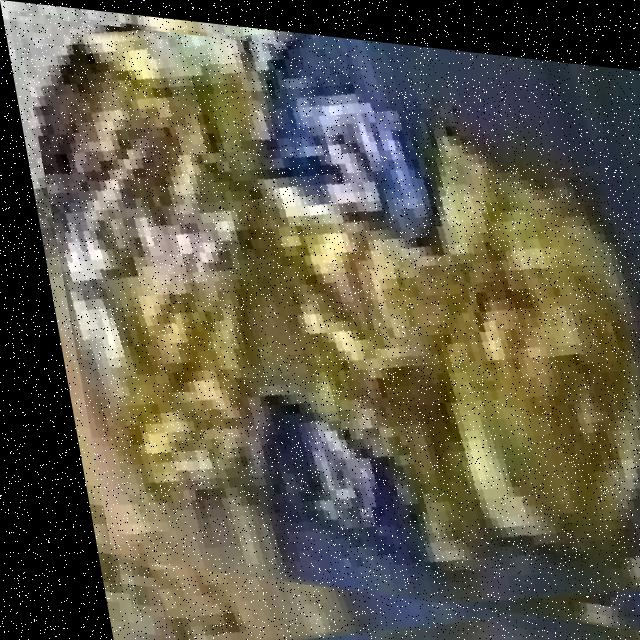litter: (31, 31, 640, 584)
